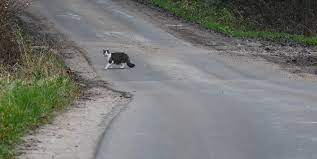cat: (101, 49, 136, 71)
